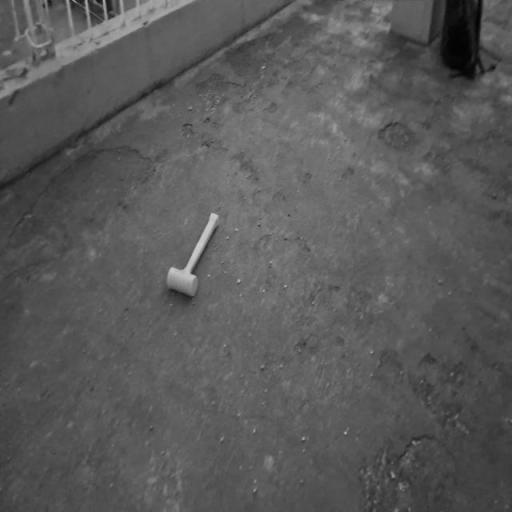mallet: (168, 212, 220, 297)
